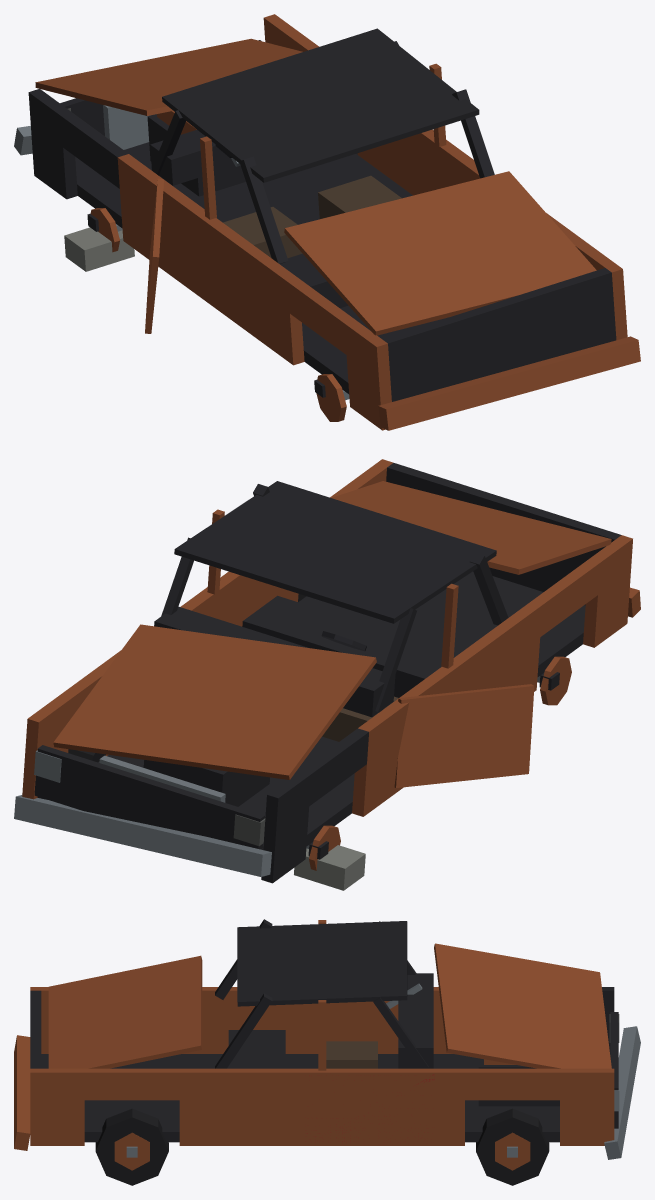
File: car_wreck_sedan.glb
3 renders of one model, top to bottom at view 1: azimuth 30°, elevation 25°; view 2: azimuth 150°, elevation 25°; view 3: azimuth 270°, elevation 25°, orthographic. The views are drawn at different scales.
Visible parts, largest first — view 1: car_wreck_sedan; view 2: car_wreck_sedan; view 3: car_wreck_sedan.
Boxes of the visible parts, x1,y1,x2,y2 form: car_wreck_sedan: (14, 14, 640, 430); car_wreck_sedan: (14, 459, 640, 890); car_wreck_sedan: (14, 919, 640, 1185).
Size of what is drawn, in the model's own units: 2.3 by 1.53 by 4.62.
Materials: 2 (2 with a texture image).
